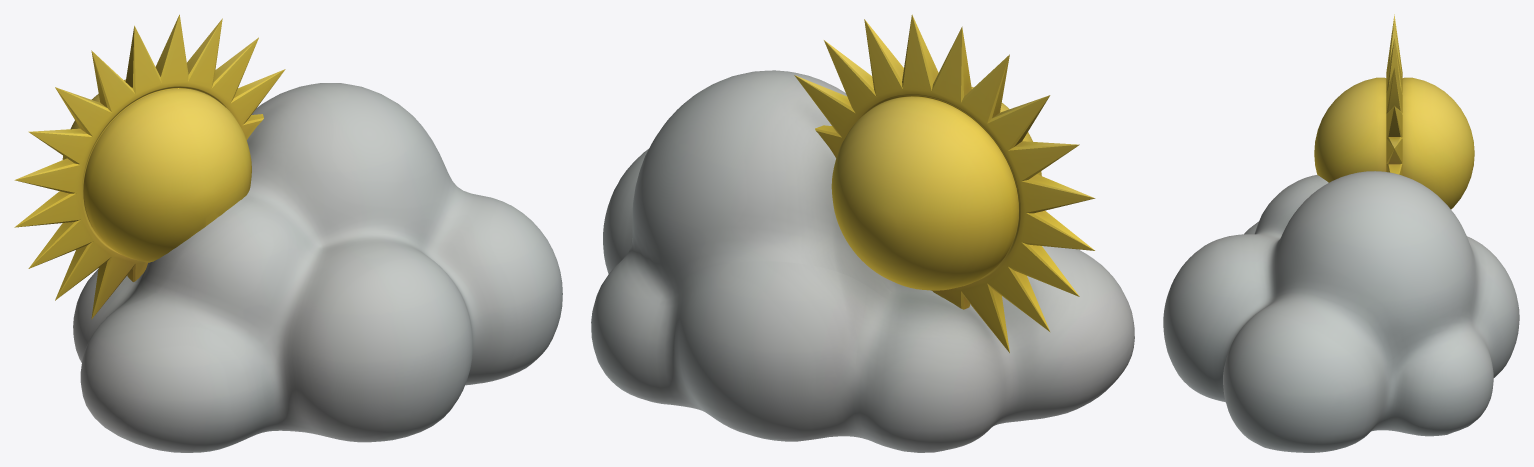
Rendered from partialSun.glb.
3 renders of one model, left to right at view 1: azimuth 30°, elevation 25°; view 2: azimuth 150°, elevation 25°; view 3: azimuth 270°, elevation 25°, orthographic. The views are drawn at different scales.
Parts seen in each view (by area): view 1: partial_sun.1; view 2: partial_sun.1; view 3: partial_sun.1.
Boxes of the visible parts, x1=… form: partial_sun.1: x1=14, y1=14, x2=562, y2=452; partial_sun.1: x1=591, y1=14, x2=1134, y2=452; partial_sun.1: x1=1163, y1=14, x2=1519, y2=452.
Bounding box in the file's own units: 0.1748 × 0.127 × 0.1336.
1 material, 1 textured.
